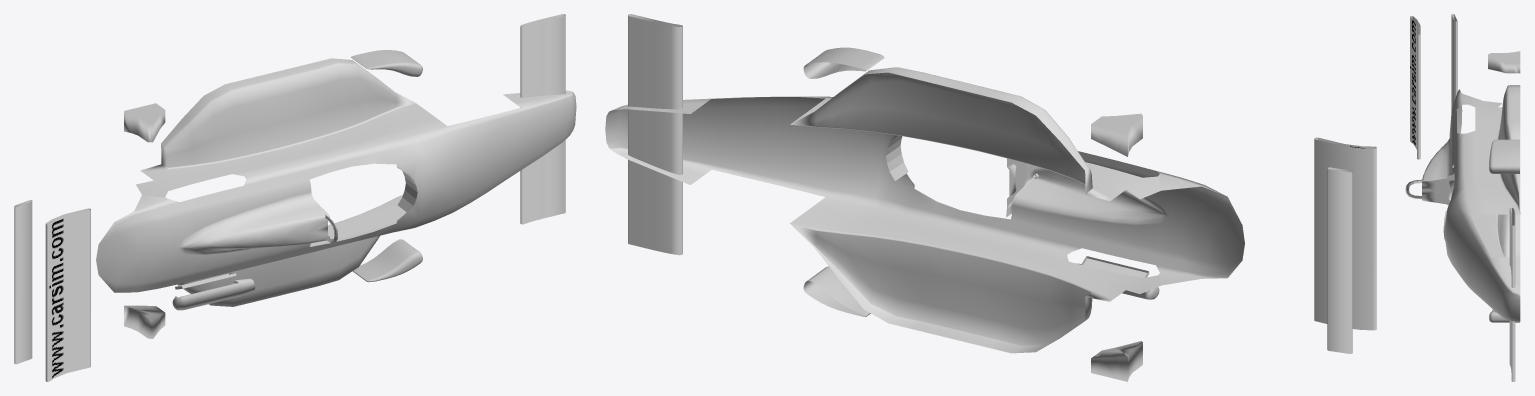
The model's file is Body.obj.
The picture shows the model from 3 angles, left to right: view 1: azimuth 30°, elevation 25°; view 2: azimuth 150°, elevation 25°; view 3: azimuth 270°, elevation 25°; orthographic projection. The views are drawn at different scales.
Visible parts, largest first — view 1: Body05, spoiler_wings, Body2, dash; view 2: Body05, spoiler_wings, Body2, dash, engine3; view 3: Body05, spoiler_wings, Body2, hook.
Part boxes in pixels (x1,y1,x2,y2): Body05: (96, 58, 576, 306); spoiler_wings: (14, 14, 565, 381); Body2: (124, 50, 422, 338); dash: (398, 171, 417, 212); Body05: (605, 67, 1244, 353); spoiler_wings: (628, 14, 1376, 353); Body2: (803, 47, 1159, 381); dash: (886, 135, 908, 180); engine3: (1081, 256, 1149, 277); Body05: (1422, 85, 1520, 321); spoiler_wings: (1410, 14, 1515, 381); Body2: (1488, 51, 1520, 322); hook: (1405, 179, 1423, 199).
Size of the model in its own units: 4.13 by 1.42 by 0.859.
